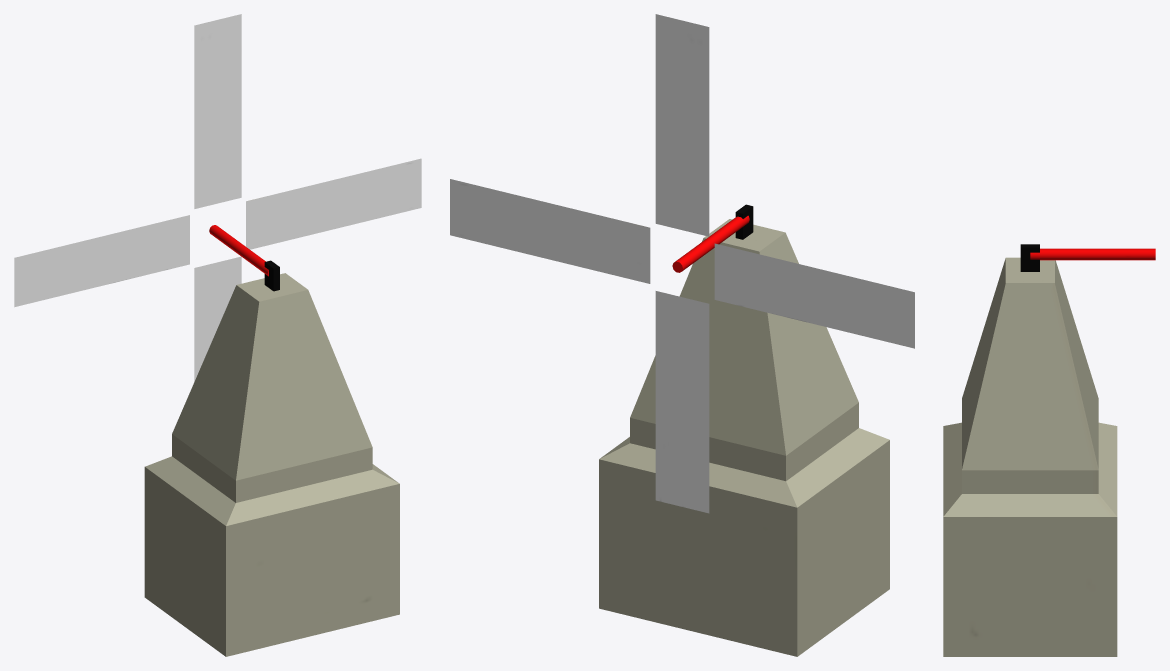
File: windmill.FBX
The picture shows the model from 3 angles, left to right: view 1: azimuth 30°, elevation 25°; view 2: azimuth 150°, elevation 25°; view 3: azimuth 270°, elevation 25°; orthographic projection. The views are drawn at different scales.
Visible parts, largest first — view 1: Box001, Plane002, Plane005, Plane004, Plane003, Cylinder001; view 2: Box001, Plane002, Plane003, Plane005, Plane004, Cylinder001; view 3: Box001, Cylinder001, Box007.
Boxes of the visible parts, box(x1,y1,x2,y2) form: Box001: box(144, 273, 399, 656); Plane002: box(194, 14, 241, 208); Plane005: box(14, 215, 189, 307); Plane004: box(246, 158, 421, 249); Plane003: box(194, 256, 241, 381); Cylinder001: box(209, 225, 268, 276); Box001: box(599, 219, 889, 656); Plane002: box(655, 14, 709, 236); Plane003: box(655, 291, 709, 513); Plane005: box(714, 243, 914, 348); Plane004: box(450, 179, 650, 283); Cylinder001: box(672, 215, 749, 272); Box001: box(943, 257, 1117, 656); Cylinder001: box(1030, 248, 1155, 260); Box007: box(1020, 244, 1039, 271).
Size of the model in its own units: 1.41 by 1.8 by 0.5928.
Materials: 1 (1 with a texture image).
